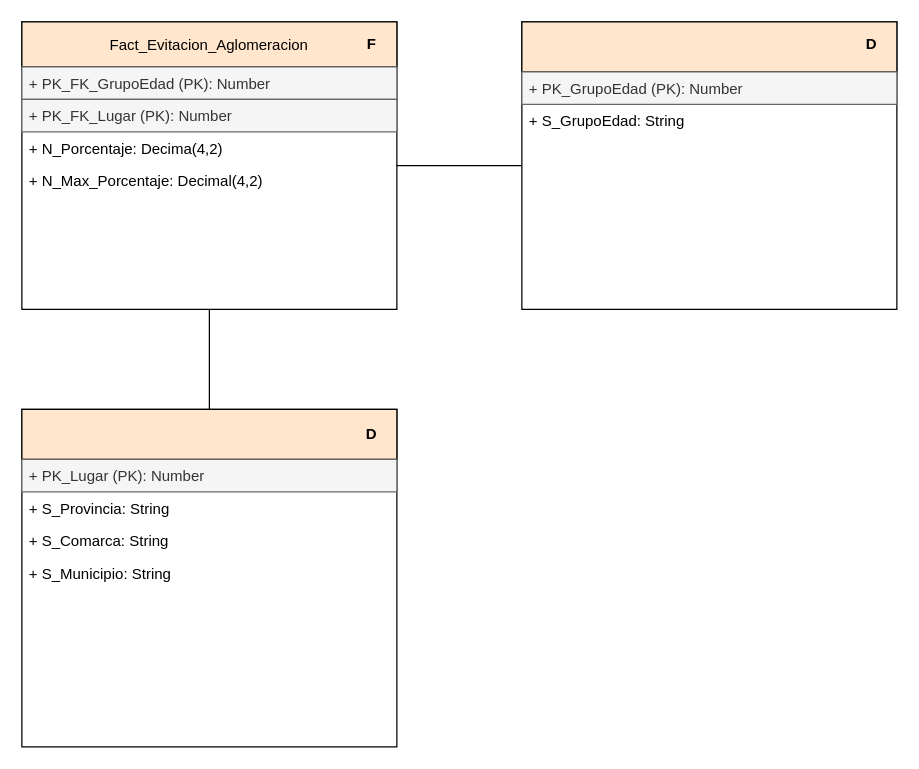
Image size: 919x769. Some labels were removed from this diagram. The box of each missing label's shape, as (x1, y1, x2, y2) in pixels:
Dim_Grupo_Edad: (521, 21, 897, 72)
Dim_Lugar: (21, 408, 397, 459)
